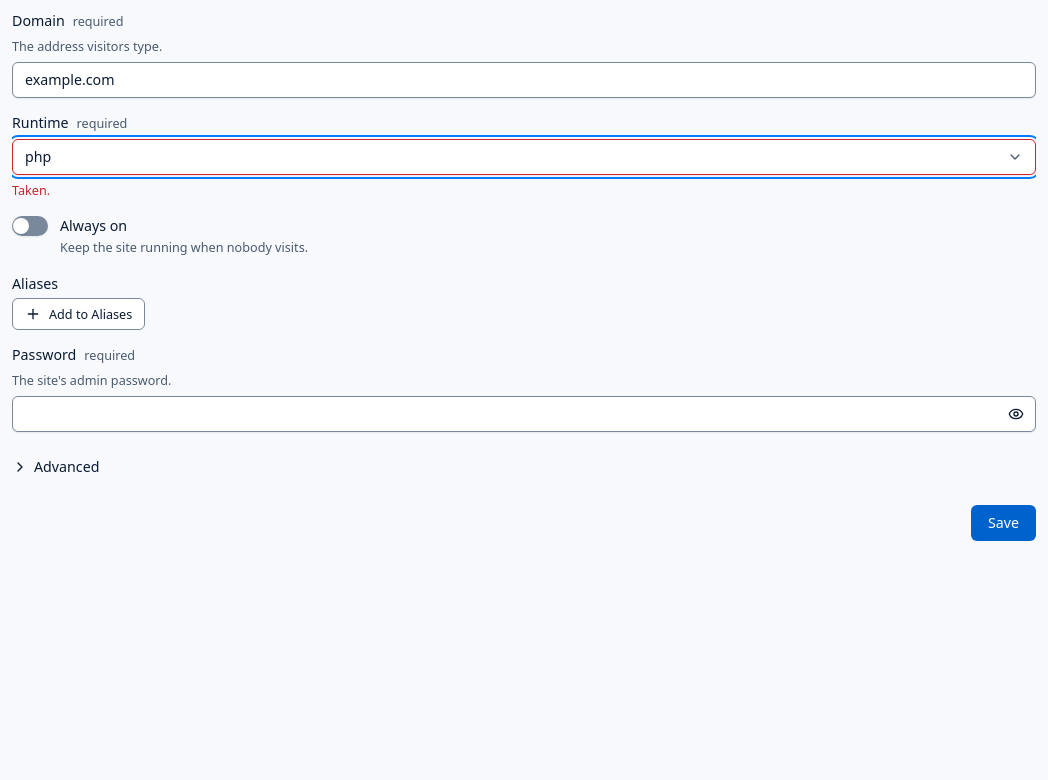
the schema form › moves focus for new problems only, not when its parent renders again
Type "x" into the field labelled "Domain required". click: (524, 80)
box: [12,62,1036,98]
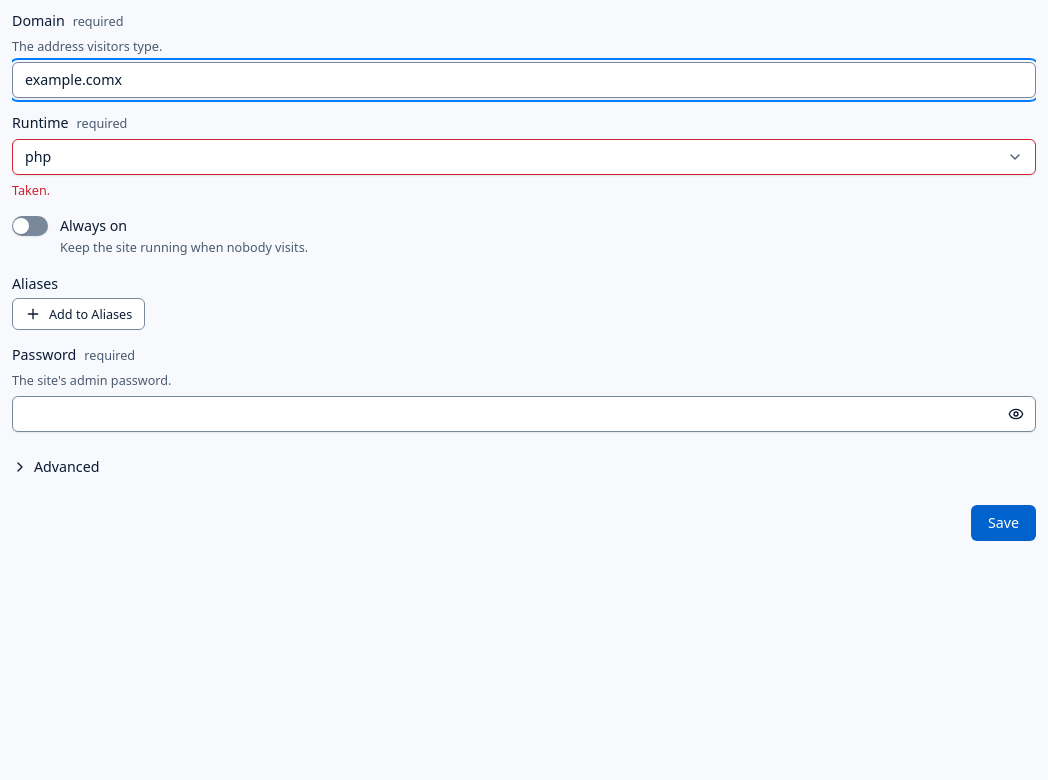
Result: the field labelled "Domain required" holds "example.comx" at [12,62,1036,98]
